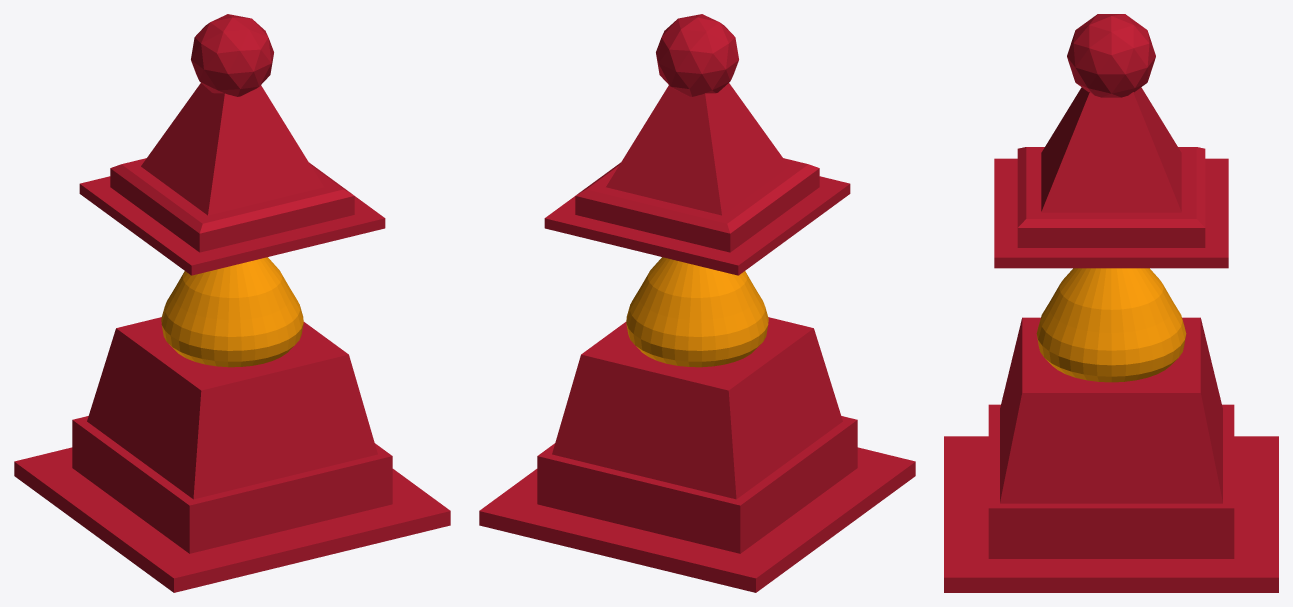
The model's file is Model_Lantern.fbx.
3 renders of one model, left to right at view 1: azimuth 30°, elevation 25°; view 2: azimuth 150°, elevation 25°; view 3: azimuth 270°, elevation 25°, orthographic. The views are drawn at different scales.
Visible parts, largest first — view 1: Stand, Upper, Light, Head; view 2: Stand, Upper, Light, Head; view 3: Stand, Upper, Light, Head.
Boxes of the visible parts, x1,y1,x2,y2 form: Stand: (14, 317, 450, 592); Upper: (79, 83, 385, 275); Light: (161, 257, 303, 367); Head: (191, 14, 273, 96); Stand: (479, 317, 915, 592); Upper: (544, 83, 850, 275); Light: (626, 257, 768, 367); Head: (656, 14, 738, 96); Stand: (944, 317, 1278, 592); Upper: (994, 87, 1228, 268); Light: (1036, 268, 1186, 382); Head: (1067, 14, 1155, 97).
Bounding box in the file's own units: 600 × 600 × 1001.
